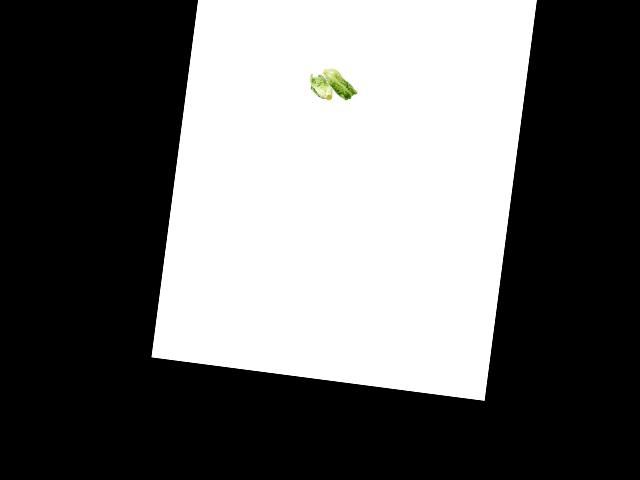lettuce: (305, 72, 336, 104)
